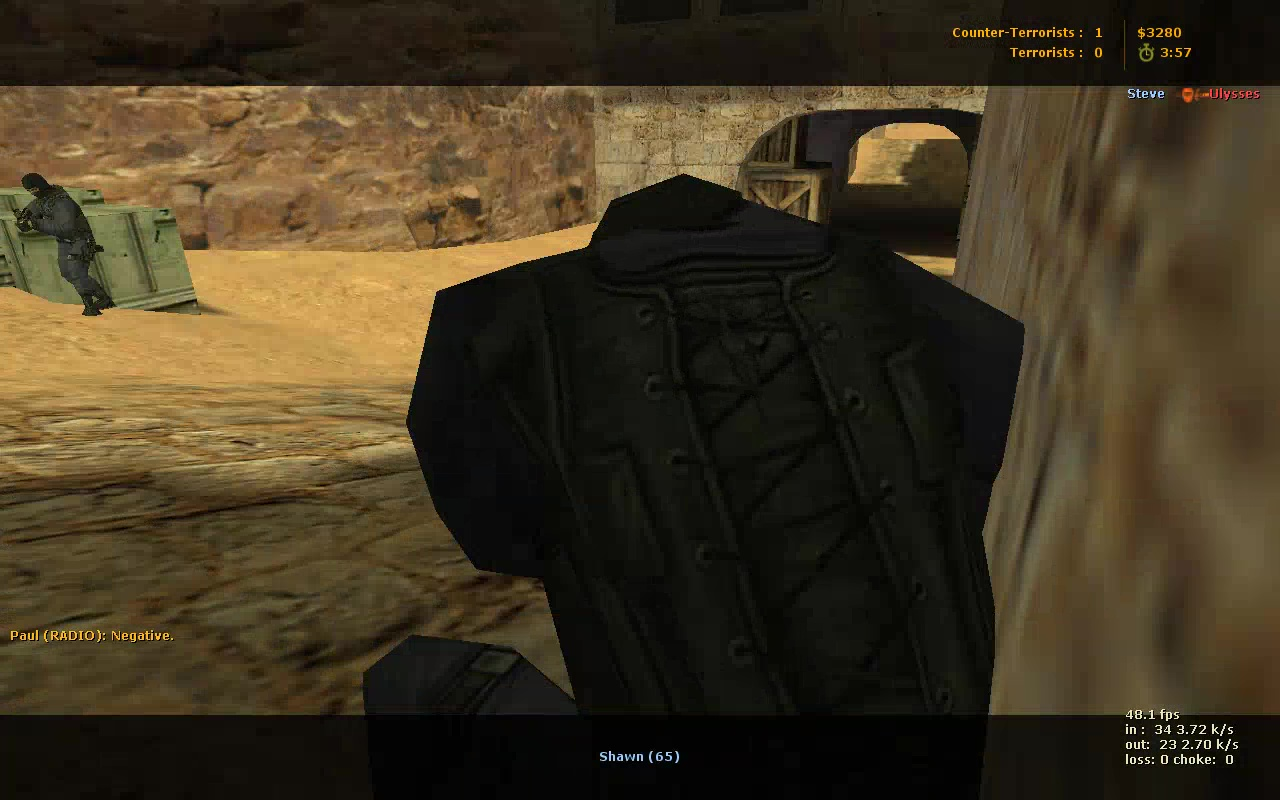ct: (12, 171, 115, 319)
